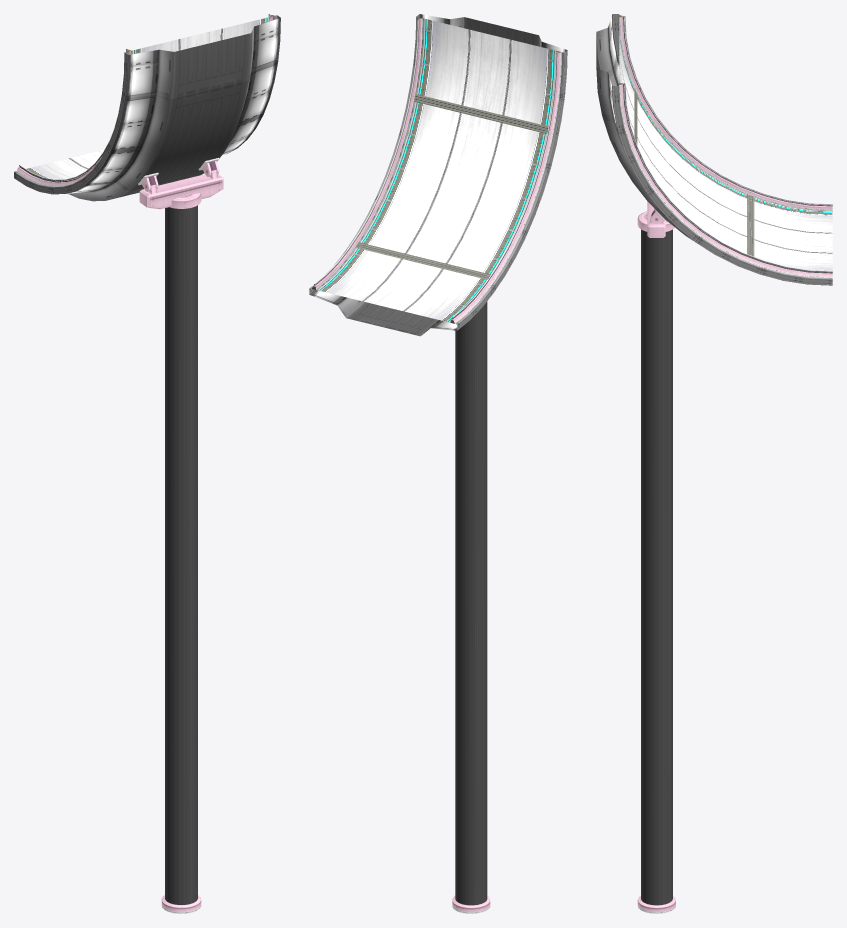
The model's file is T29 - Magnetic.fbx.
The picture shows the model from 3 angles, left to right: view 1: azimuth 30°, elevation 25°; view 2: azimuth 150°, elevation 25°; view 3: azimuth 270°, elevation 25°; orthographic projection. The views are drawn at different scales.
Parts seen in each view (by area): view 1: support_pylon, standard_bridge4, straight_road18, support_hinge_base, wall1; view 2: straight_road18, support_pylon, standard_bridge4, wall1, magnetic_road_lines; view 3: support_pylon, straight_road18, standard_bridge4, wall1, magnetic_road_lines.
Part boxes in pixels (box(x1,y1,x2,y2)): support_pylon: box(165, 205, 197, 904); standard_bridge4: box(14, 15, 280, 201); straight_road18: box(26, 17, 270, 181); support_hinge_base: box(139, 169, 223, 209); wall1: box(16, 14, 274, 186); straight_road18: box(316, 18, 556, 322); support_pylon: box(455, 301, 487, 905); standard_bridge4: box(309, 14, 567, 336); wall1: box(312, 17, 561, 323); magnetic_road_lines: box(362, 29, 539, 311); support_pylon: box(641, 229, 672, 905); straight_road18: box(619, 19, 832, 272); standard_bridge4: box(596, 14, 832, 285); wall1: box(619, 15, 832, 278); magnetic_road_lines: box(619, 42, 832, 256).
Size of the model in its own units: 4478 by 24800 by 6204.
